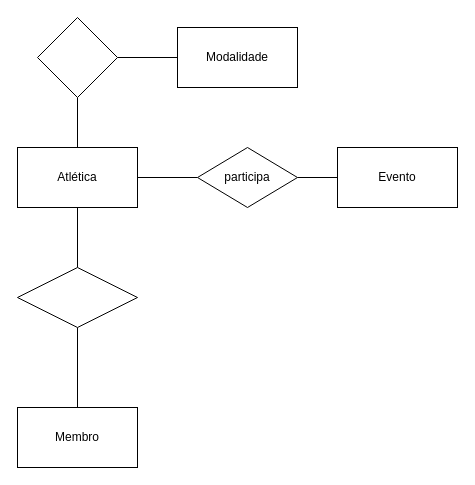
Some shapes in this 475 by 485 pixel diagram are drawn without their labels. The centre of each missing label's shape, as x and y in pixels:
"contém" goes at pixel 77 57.
"pertence" goes at pixel 77 297.
